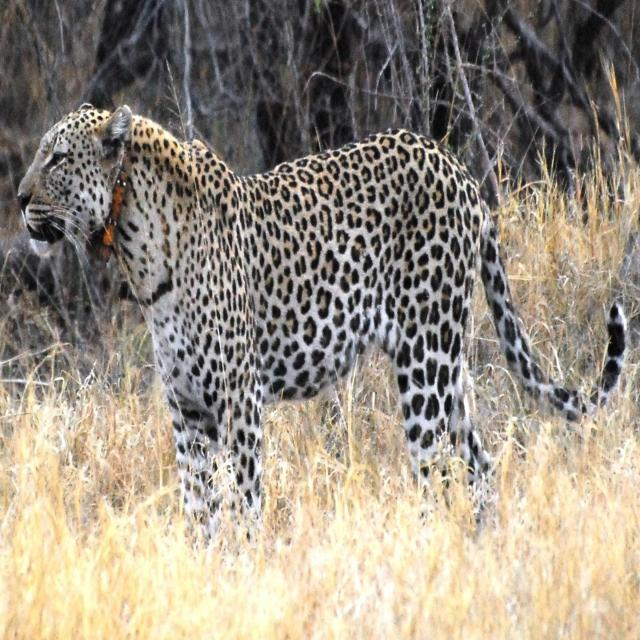Leopard: (30, 100, 624, 556)
